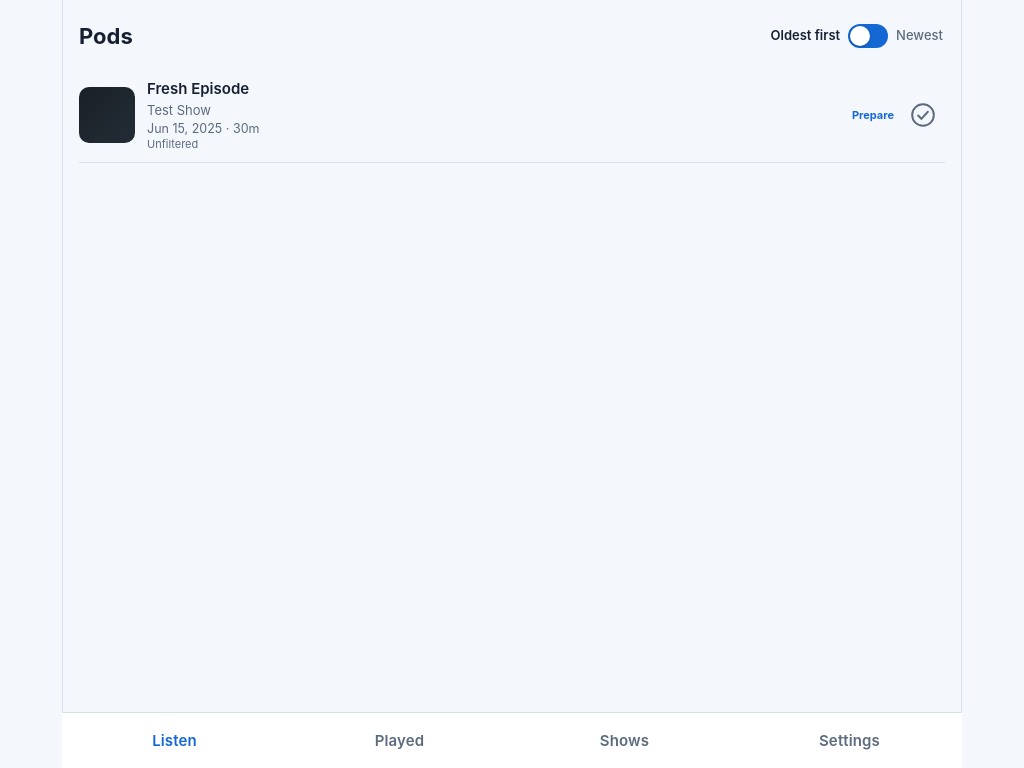
Test: App › animates a completed tab swipe
Expected: the text "Fresh Episode" is shown, [147,79,249,98]
Press the mouse on the element that starts with "Pods" at (512, 81), box [79,0,945,163]
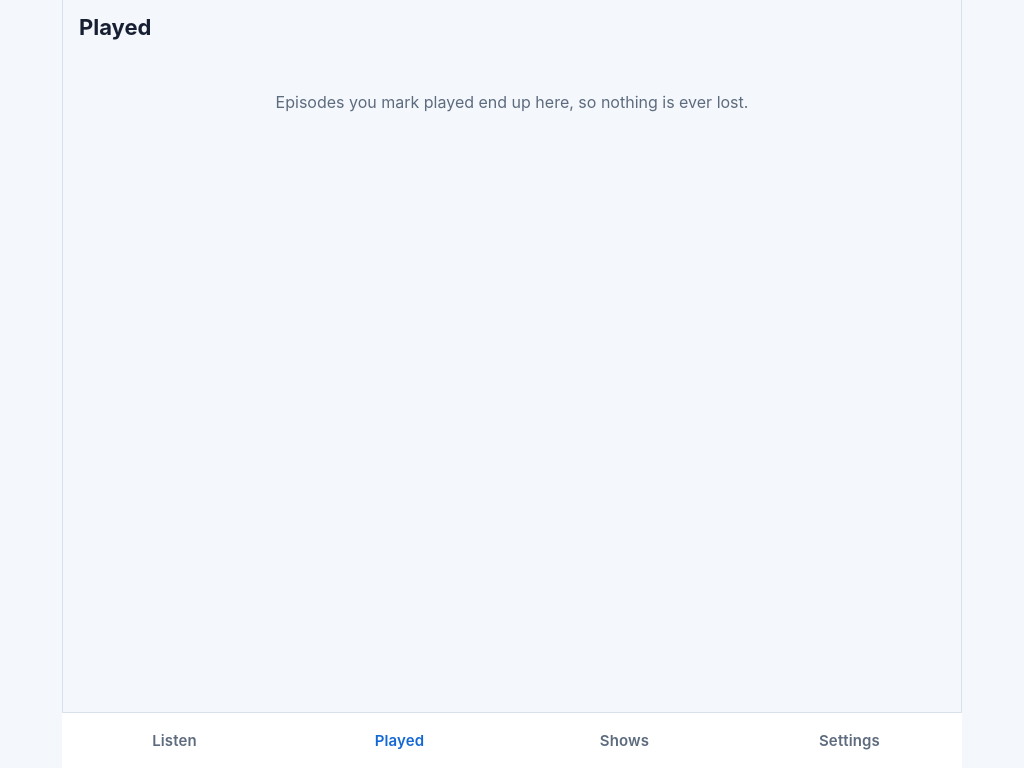
Expected: the element with class "tab-swipe-forward" is shown, [63,0,961,138]
Expected: the heading "Played" is shown, [79,14,151,40]
